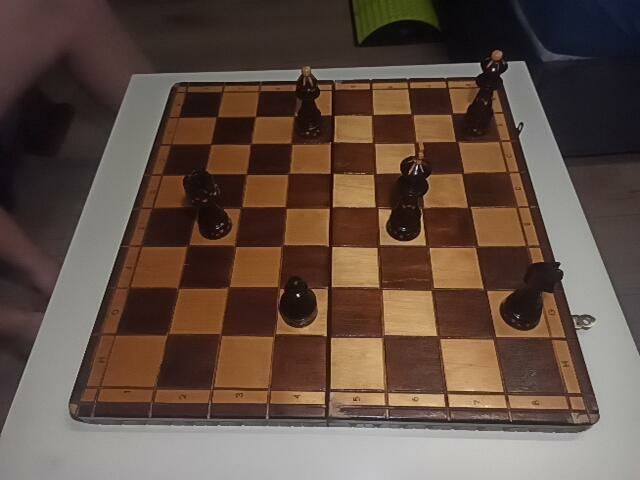B-Bishop: (295, 65, 323, 139)
B-King: (387, 141, 430, 241)
B-Knight: (499, 261, 563, 330)
B-Pawn: (278, 277, 318, 327)
B-Queen: (463, 49, 509, 135)
B-Rook: (183, 168, 233, 239)
